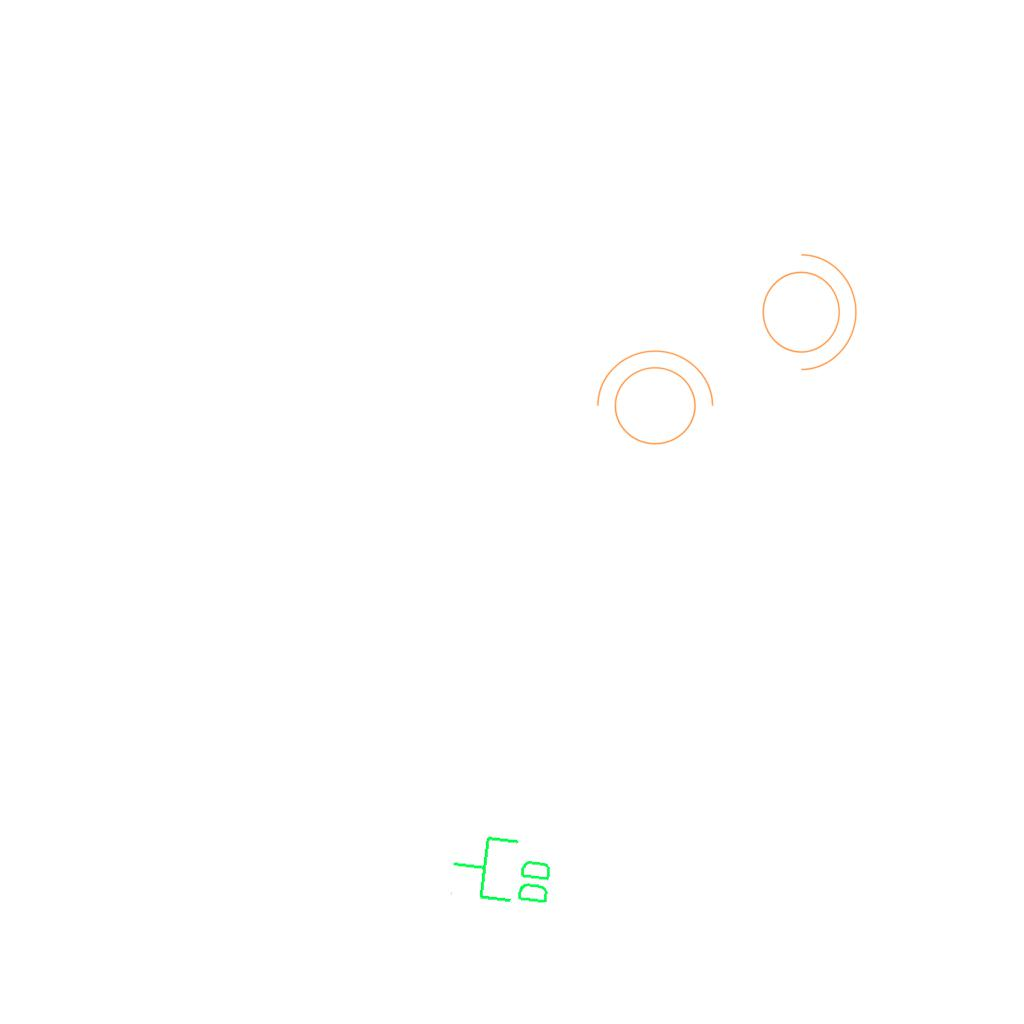Datenanschluss_zweifach: (447, 829, 558, 912)
Scheinwerfer_fuer_Alarmbeleuchtung: (586, 345, 718, 457), (750, 243, 862, 375)
